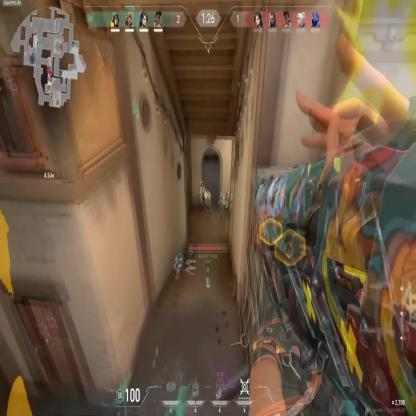enemy: (202, 187, 212, 217), (198, 183, 206, 214), (217, 191, 225, 220), (224, 189, 232, 216)
enemy_head: (206, 191, 210, 196), (220, 192, 223, 198), (200, 183, 202, 187), (226, 190, 228, 193)
